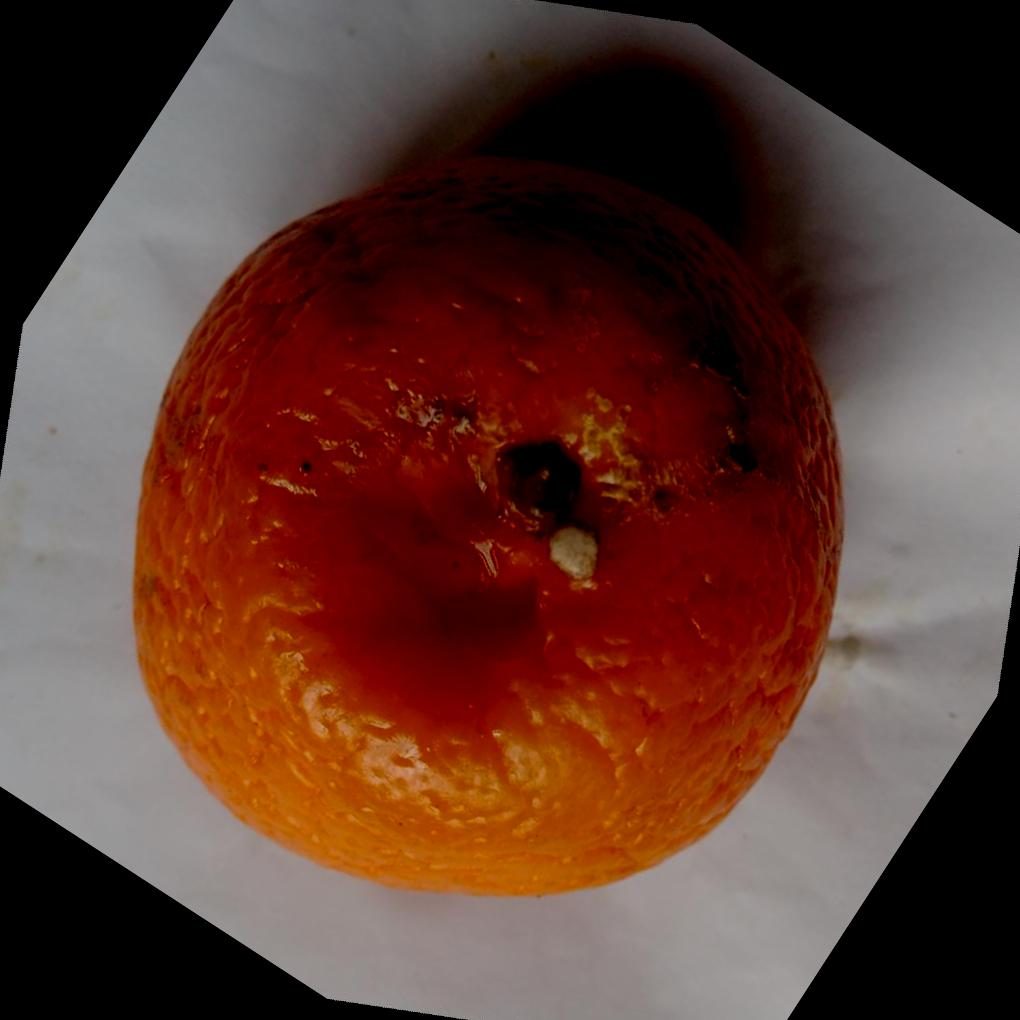FreshOrange: (131, 153, 849, 903)
